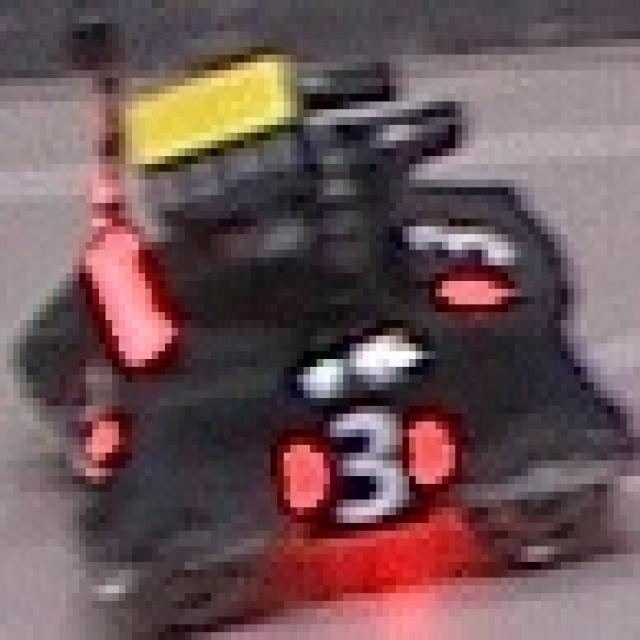R3: (277, 406, 449, 523)
